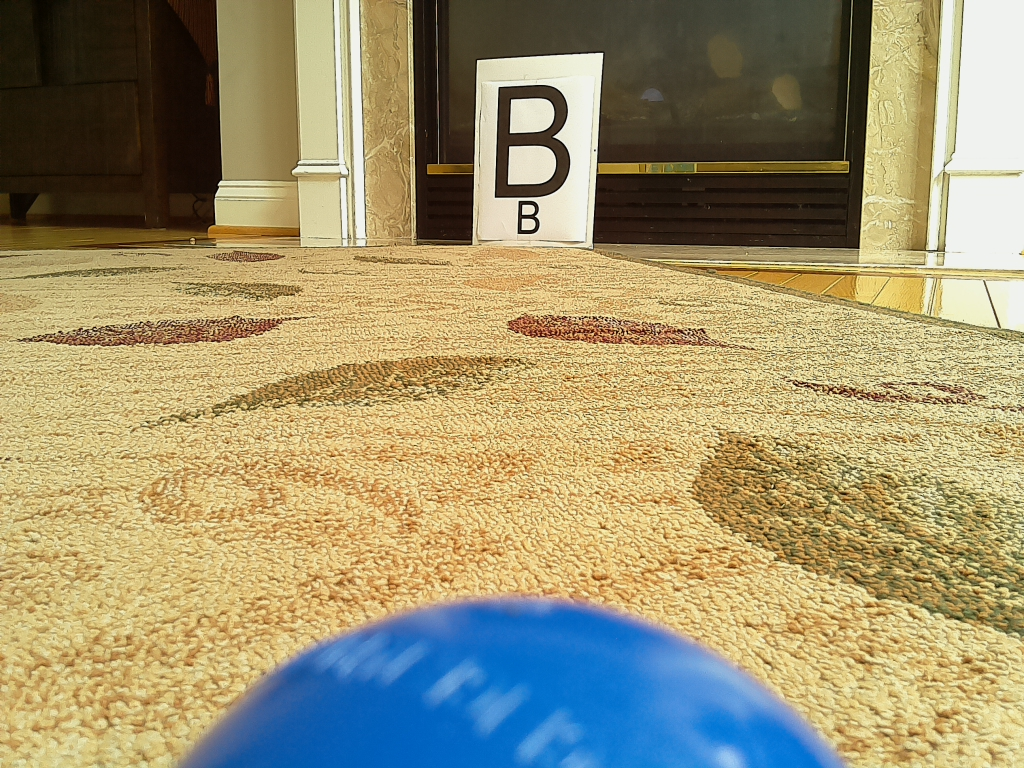letter: (495, 84, 571, 200)
